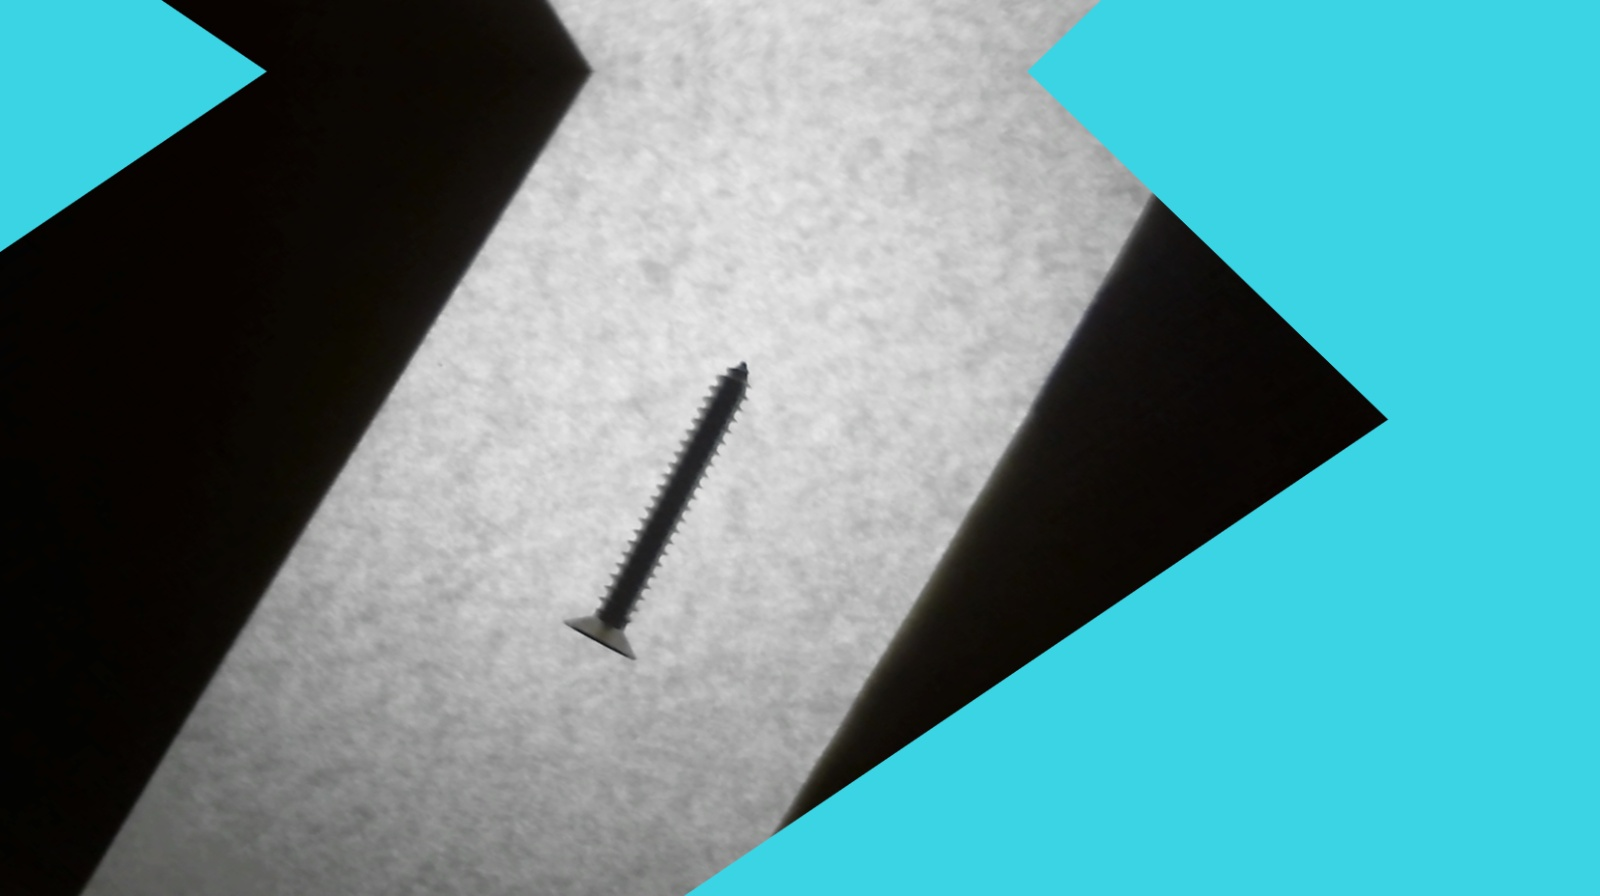S002: (446, 331, 912, 694)
